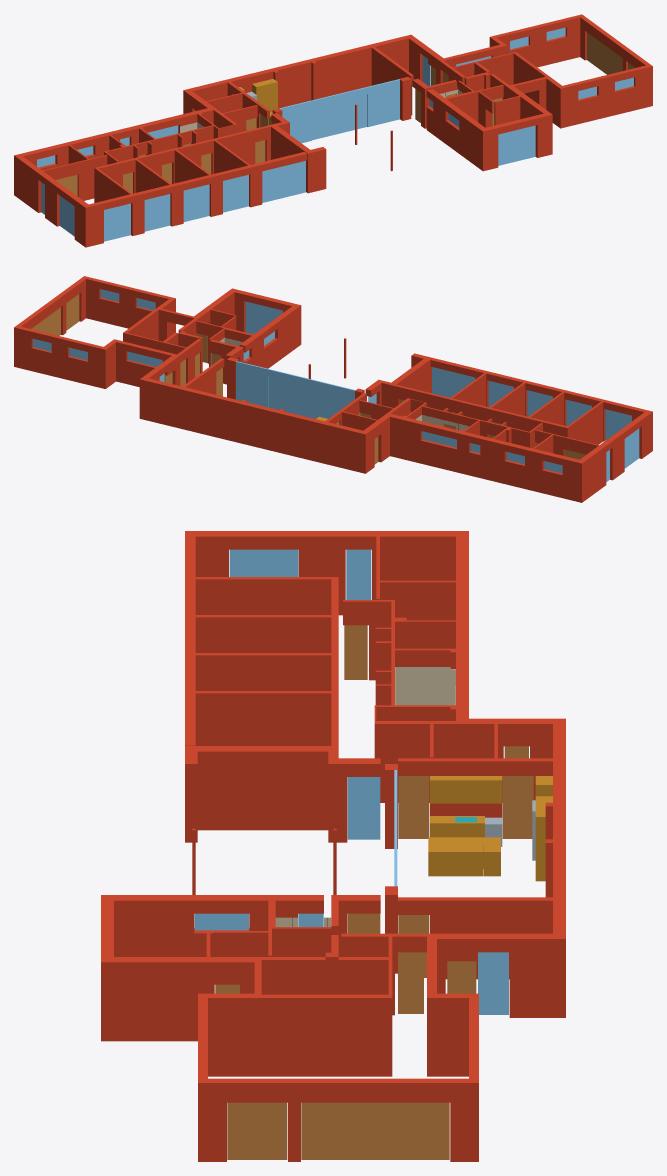
Rendered from ground_floor.glb.
The picture shows the model from 3 angles, top to bottom: view 1: azimuth 30°, elevation 25°; view 2: azimuth 150°, elevation 25°; view 3: azimuth 270°, elevation 25°; orthographic projection. The views are drawn at different scales.
Visible parts, largest first — view 1: masonry (×36), glazing (×9), door; view 2: masonry (×33), glazing (×9), door (×2); view 3: masonry (×37), door (×7), glazing (×5).
Part boxes in pixels (x1,y1,x2,y2): masonry (×36): (14,14,652,247); glazing (×9): (59,79,535,241); door: (587,32,622,74); masonry (×33): (14,276,652,502); glazing (×9): (236,301,639,468); door (×2): (31,294,79,335); masonry (×37): (101,531,565,1161); door (×7): (227,625,533,1159); glazing (×5): (194,549,508,1014).
Size of the model in its own units: 45.05 by 3.05 by 16.05.
